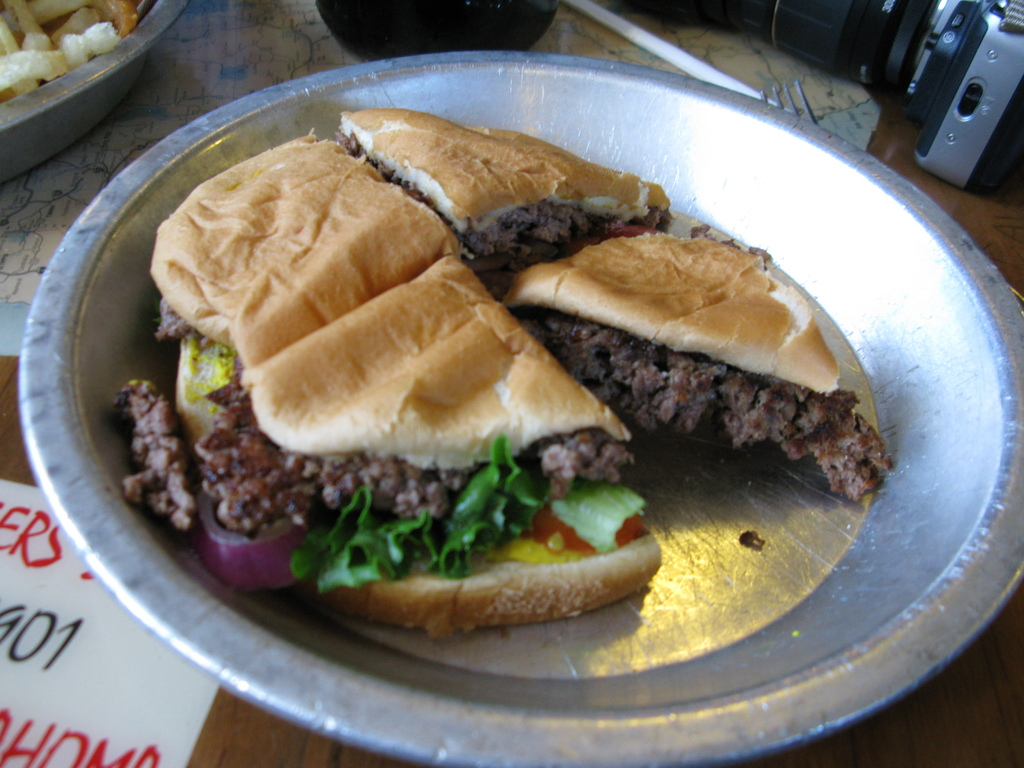Hamburger: (108, 129, 664, 640), (506, 226, 897, 496), (339, 110, 673, 278)
